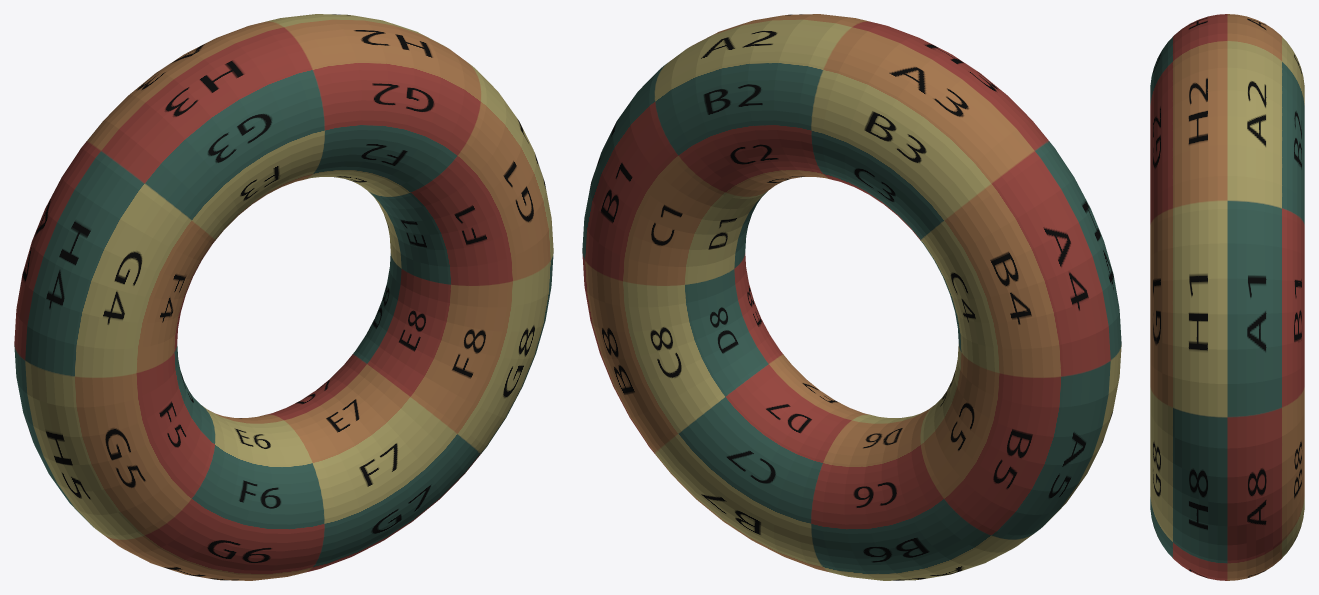
The model's file is texture_torus_R9_r15.glb.
3 renders of one model, left to right at view 1: azimuth 30°, elevation 25°; view 2: azimuth 150°, elevation 25°; view 3: azimuth 270°, elevation 25°, orthographic. The views are drawn at different scales.
Visible parts, largest first — view 1: world; view 2: world; view 3: world.
Boxes of the visible parts, <box> form: world: <box>14,14,553,580</box>; world: <box>582,14,1121,580</box>; world: <box>1150,14,1304,580</box>.
Size of the model in its own units: 22 by 21.96 by 5.99.
1 material, 1 textured.
